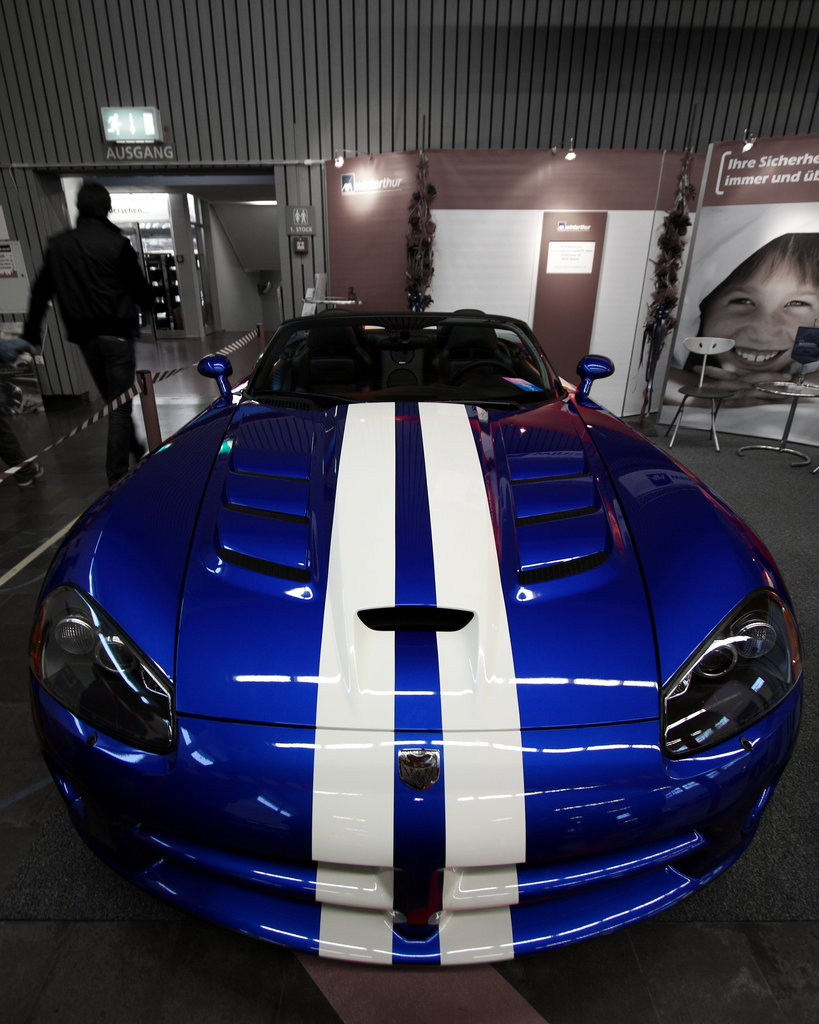Person: (685, 203, 819, 384)
